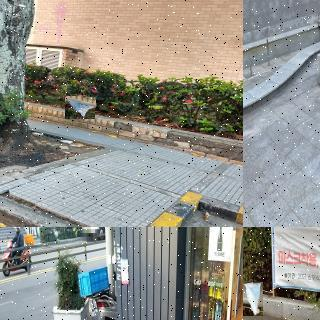Garbage: (243, 281, 263, 316), (65, 97, 96, 119)
